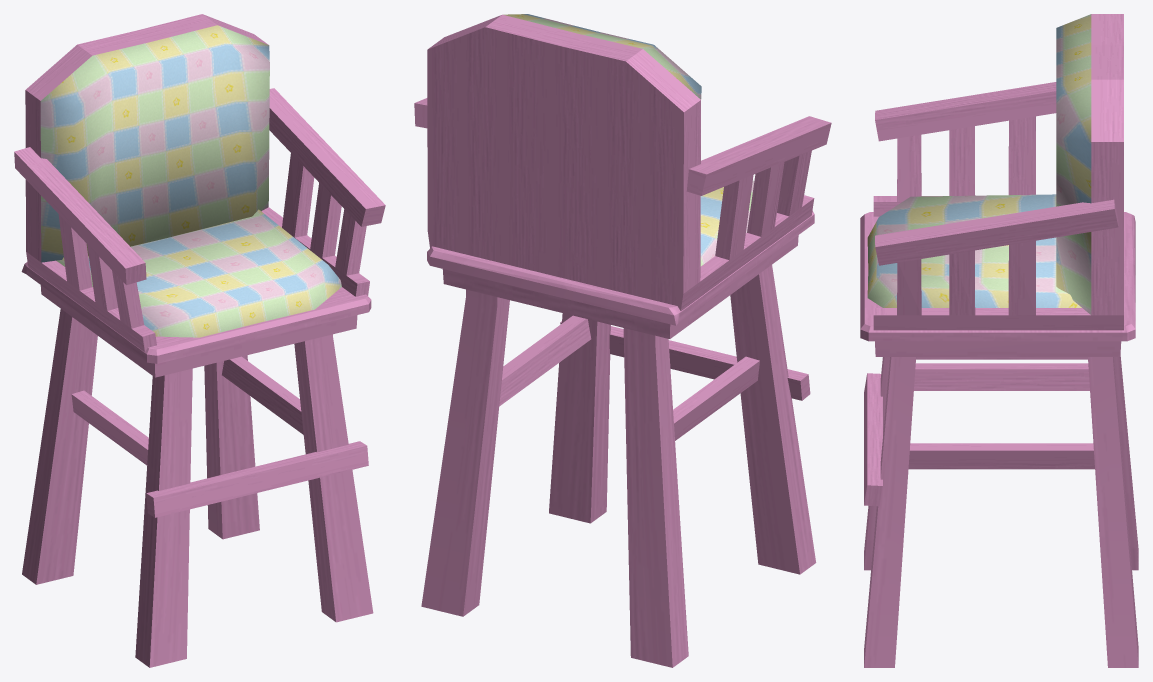
File: High_Chair_A.FBX
The picture shows the model from 3 angles, left to right: view 1: azimuth 30°, elevation 25°; view 2: azimuth 150°, elevation 25°; view 3: azimuth 270°, elevation 25°; orthographic projection. The views are drawn at different scales.
Parts seen in each view (by area): view 1: High_Chair; view 2: High_Chair; view 3: High_Chair.
Boxes of the visible parts, box(x1,y1,x2,y2) form: High_Chair: box(14, 14, 385, 667); High_Chair: box(414, 14, 831, 667); High_Chair: box(860, 14, 1138, 667).
Size of the model in its own units: 139 by 268 by 120.
